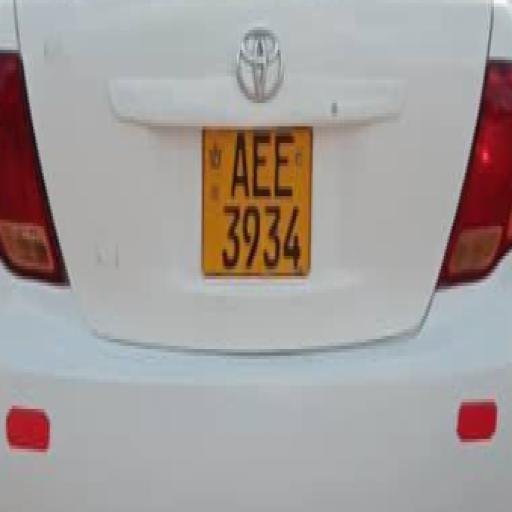number-plates: (203, 122, 305, 277)
